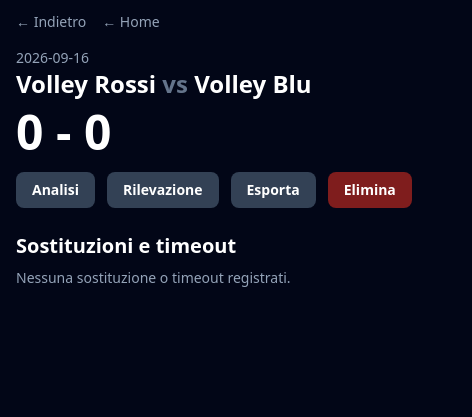
Test: MatchReportPage › scheda: Esporta apre il menu con i 4 export
This screenshot has width=472, height=417.
Check: the button "Esporta PDF" is not shown
Click the button "Esporta" at (273, 190), box [230,172,316,208]
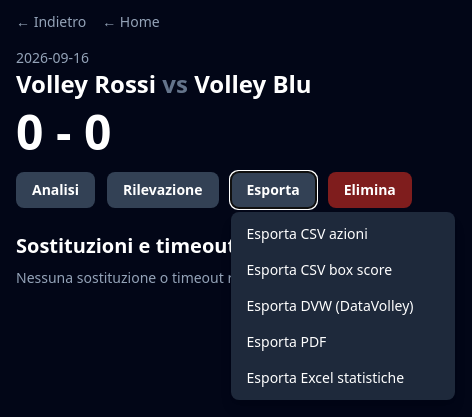
Check: the button "Esporta CSV azioni" is shown, box [230,216,454,252]
Check: the button "Esporta CSV box score" is shown, box [230,252,454,288]
Check: the button "Esporta PDF" is shown, box [230,324,454,360]
